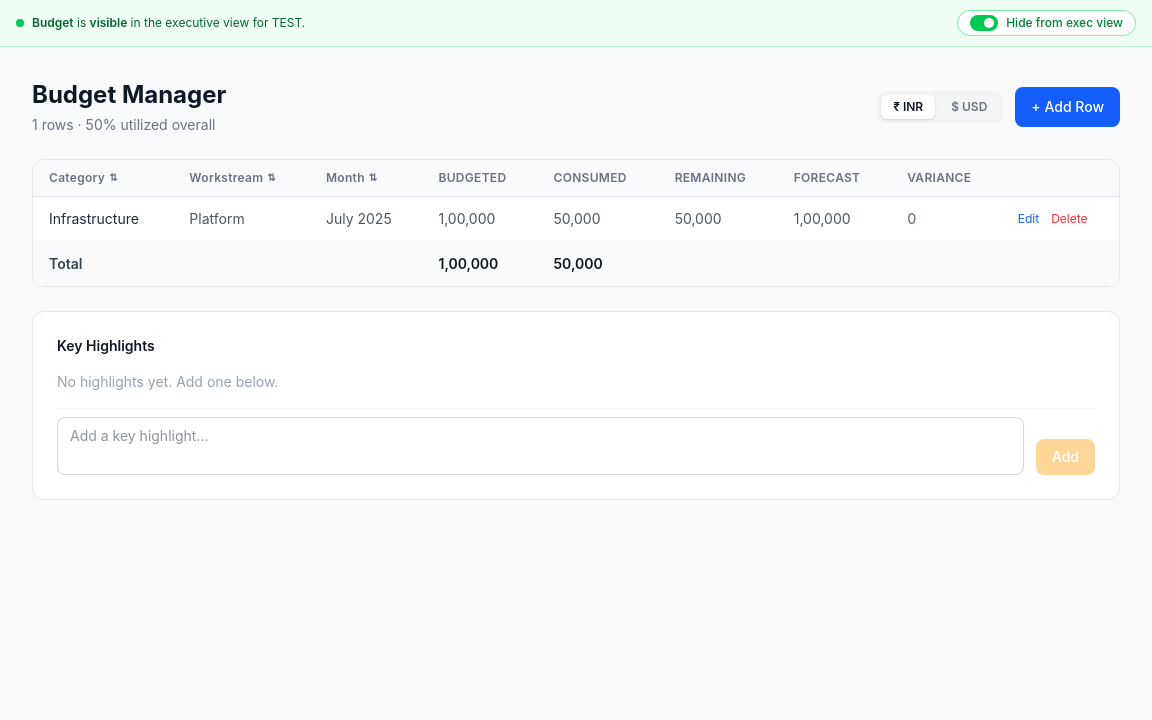
BudgetEditor › T-34.10: editing existing row saves via else branch
The image size is (1152, 720).
Expected: the text "Infrastructure" is shown, x1=33 y1=196 x2=173 y2=242
What coordinates should you click on to do the following:
click the button "Edit"
I would click on:
 (1028, 219)
Its box is x1=1018 y1=211 x2=1039 y2=227.
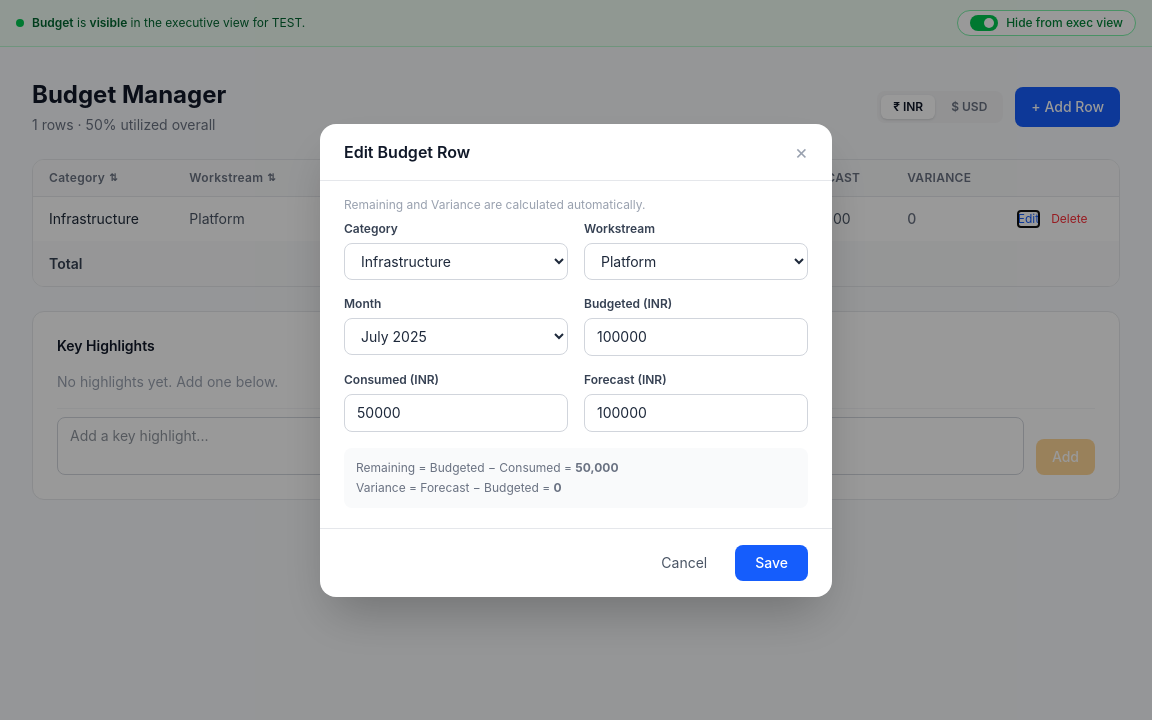
Expected: the heading "Edit Budget Row" is shown, x1=344 y1=140 x2=470 y2=164
What coordinates should you click on to do the following:
click the button "Save"
I would click on:
 (772, 562)
Its box is x1=735 y1=544 x2=808 y2=580.
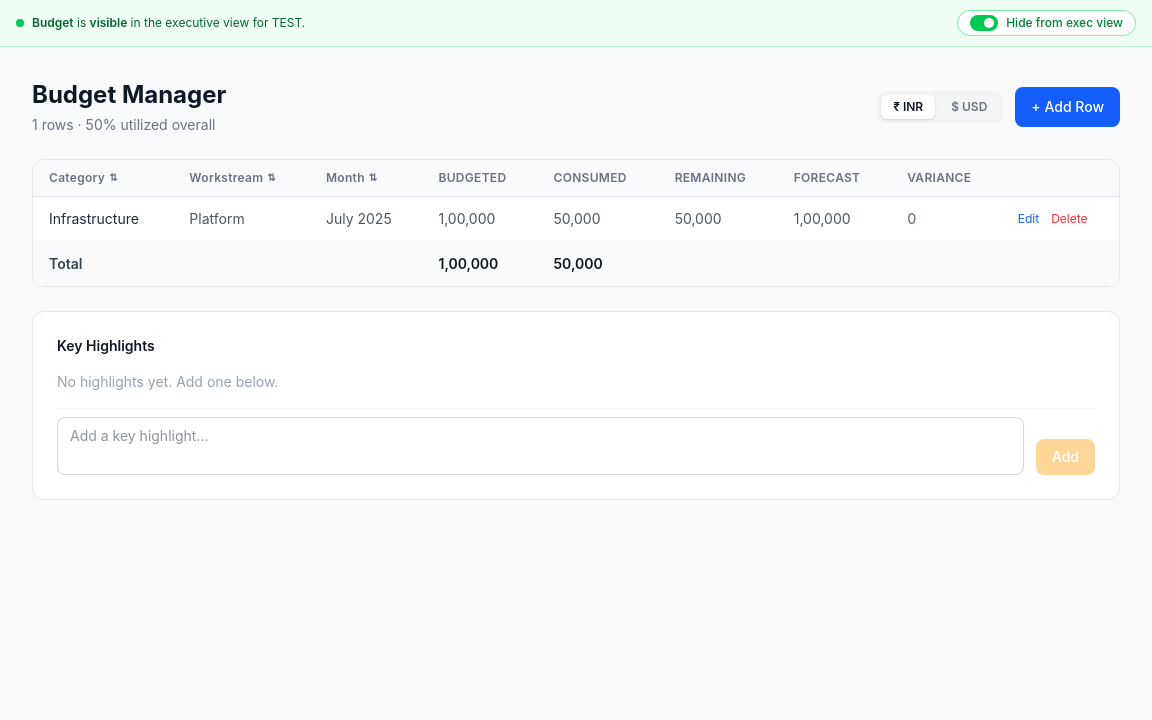
Expected: the text "Infrastructure" is shown, x1=33 y1=196 x2=173 y2=242
Expected: the heading "Edit Budget Row" is gone
